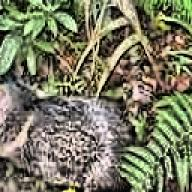boar: (0, 54, 140, 192)
